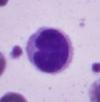L: (25, 25, 75, 77)
